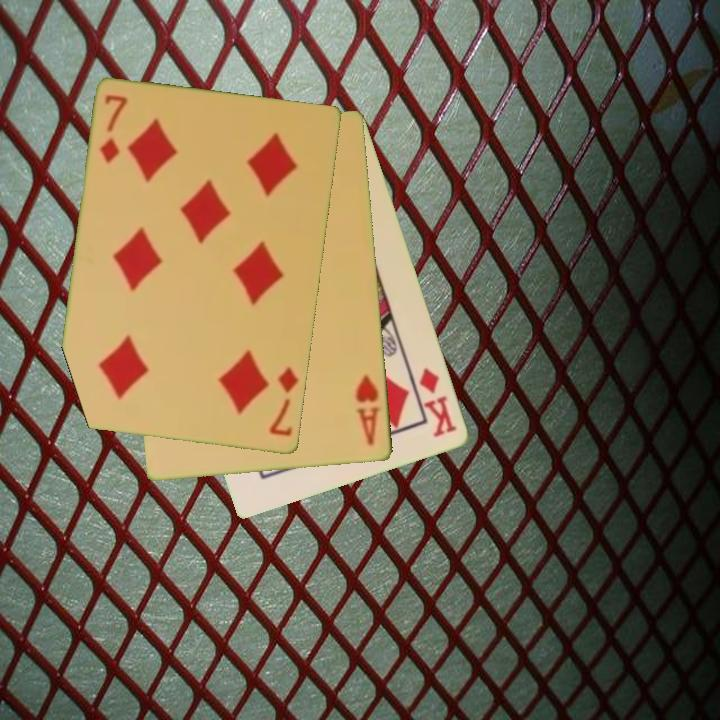7d: (266, 364, 302, 440), (96, 91, 131, 167)
Ah: (352, 372, 384, 449)
Kd: (416, 364, 461, 441)
